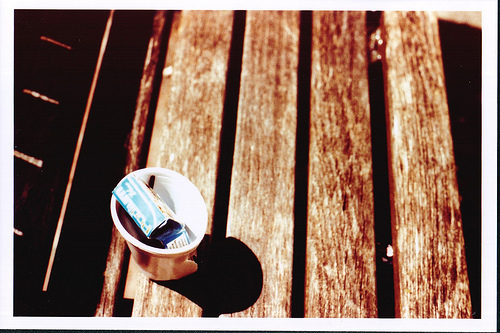litter: (111, 165, 207, 281)
